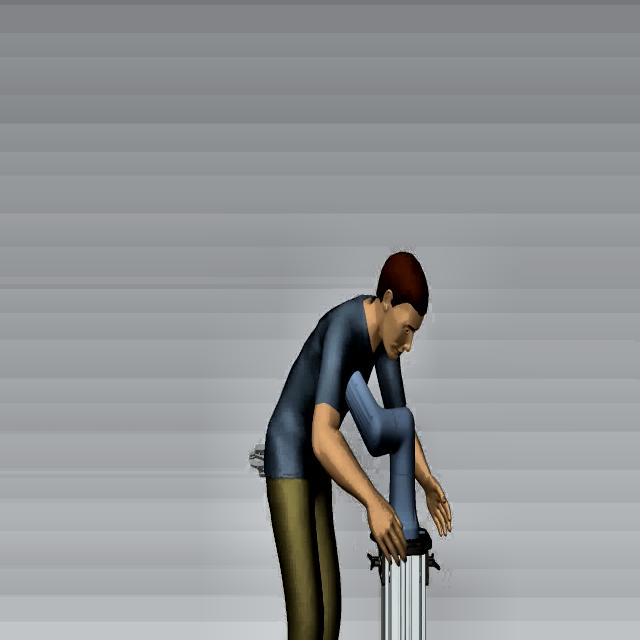robot: (341, 359, 431, 563)
